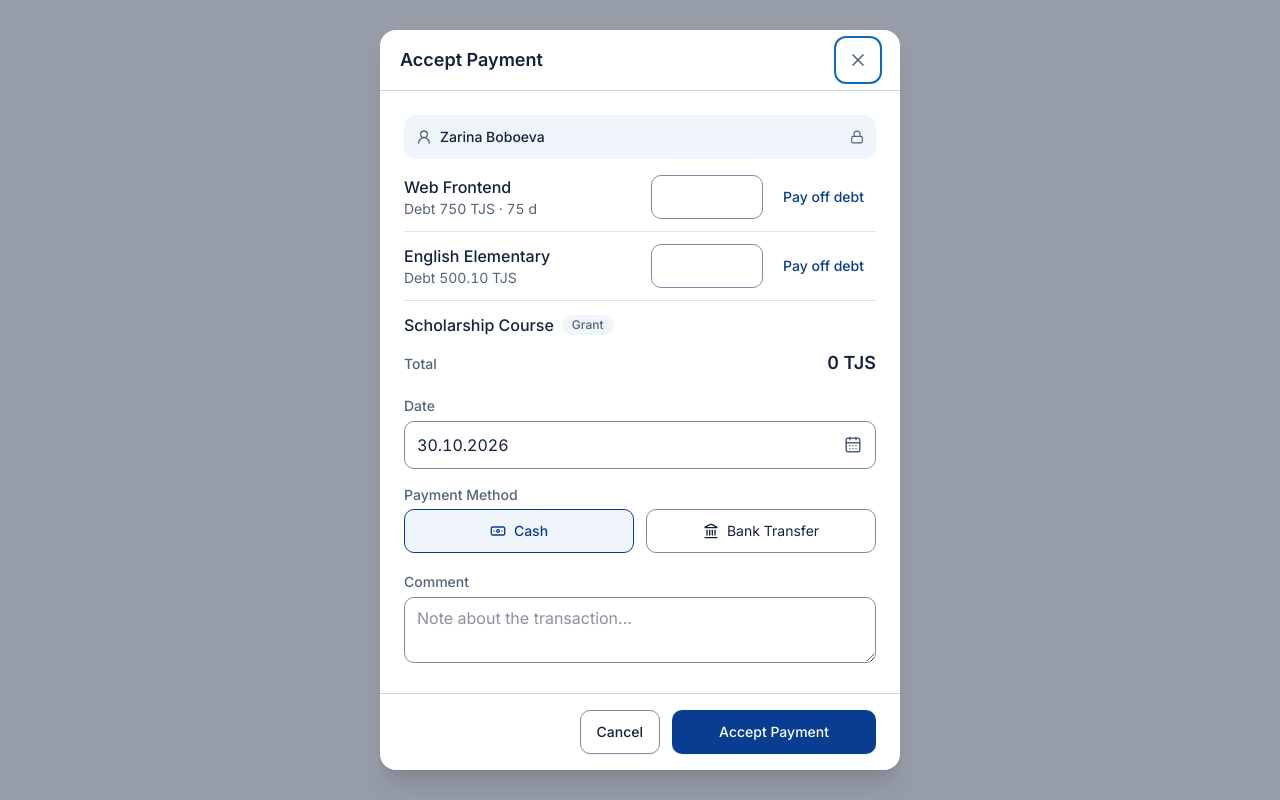
Scenario: multi-course payment modal › fills a row with its debt via the quick-fill button and totals the rows exactly
This screenshot has width=1280, height=800.
Expected: the list item with test id "payment-target-501" is shown, [404,175,876,232]
Step 1. Click the button with aria-label "Pay off debt: Web Frontend" → (824, 197), box [771,175,876,219]
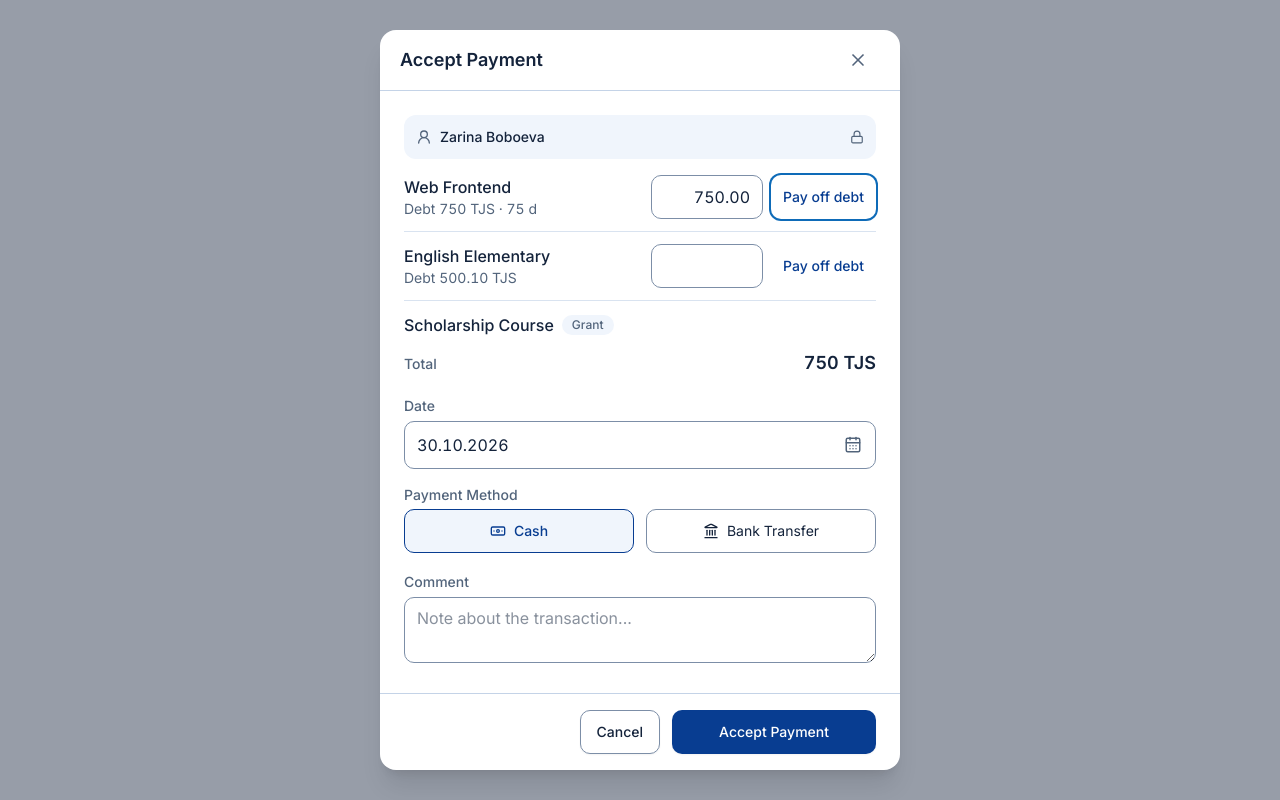
Now the field named "Amount for Web Frontend (TJS)" holds "750.00", box [651,175,763,219]
Step 2. Type "0,1" into the field named "Amount for English Elementary (TJS)" → (707, 266), box [651,244,763,288]
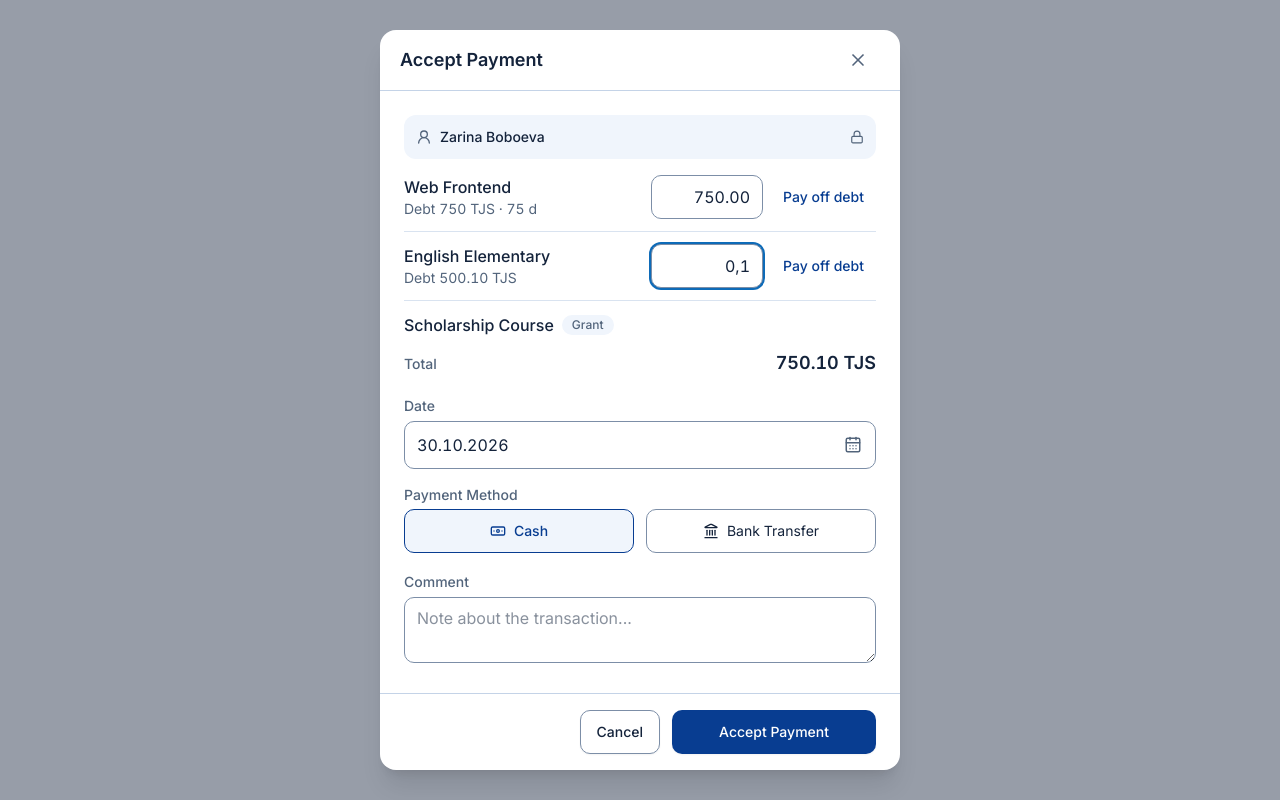
Now the text "750.10 TJS" is shown, box [776,349,876,377]
